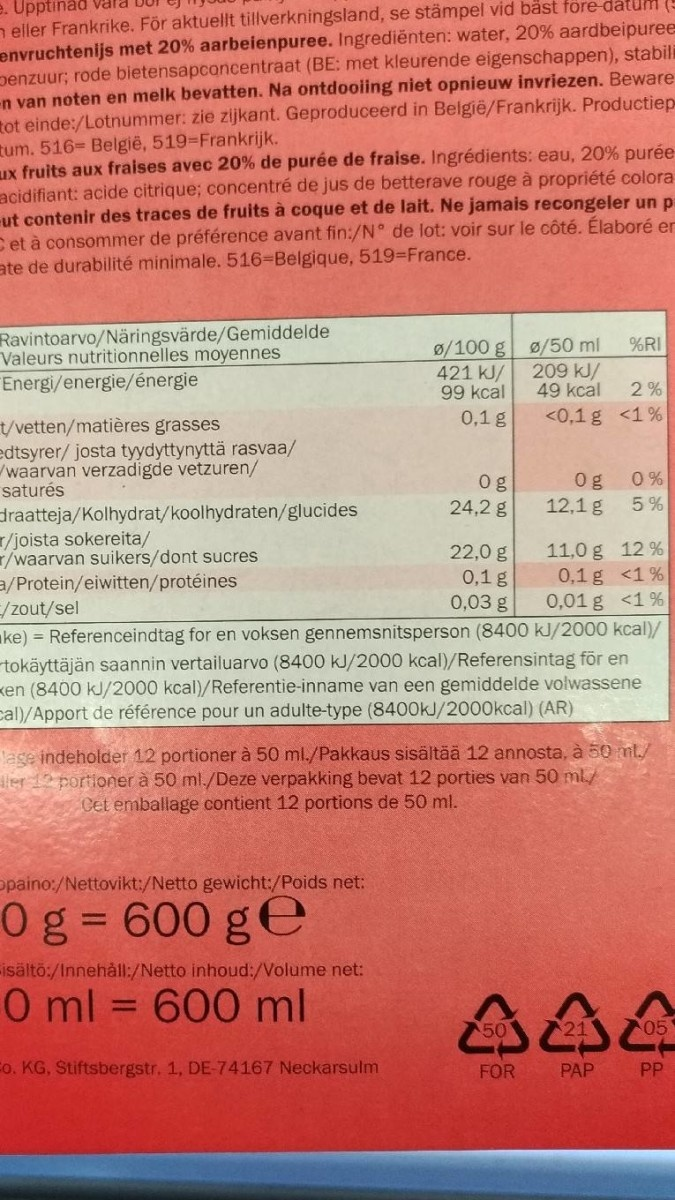column: (4, 321, 356, 615), (529, 329, 602, 614), (433, 338, 508, 611), (616, 328, 665, 612)
table: (1, 314, 675, 623)
